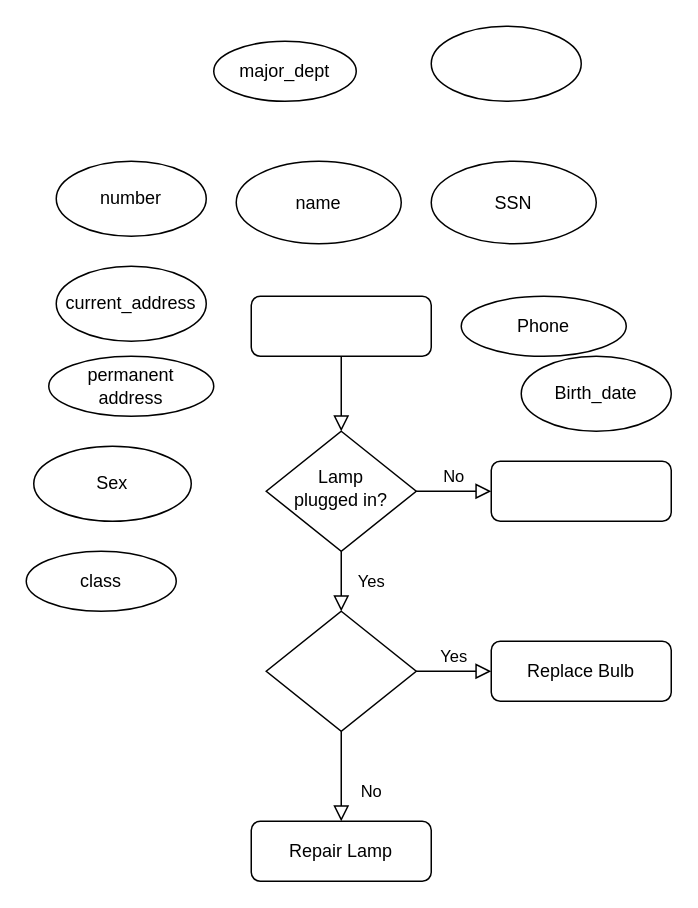
Some shapes in this 698 by 908 pixel diagram are drawn without their labels. Each missing label, with the centre of its shape:
"Bulb burned out?" goes at [340,670].
"Plug in lamp" goes at [580,490].
"Student" goes at [340,325].
